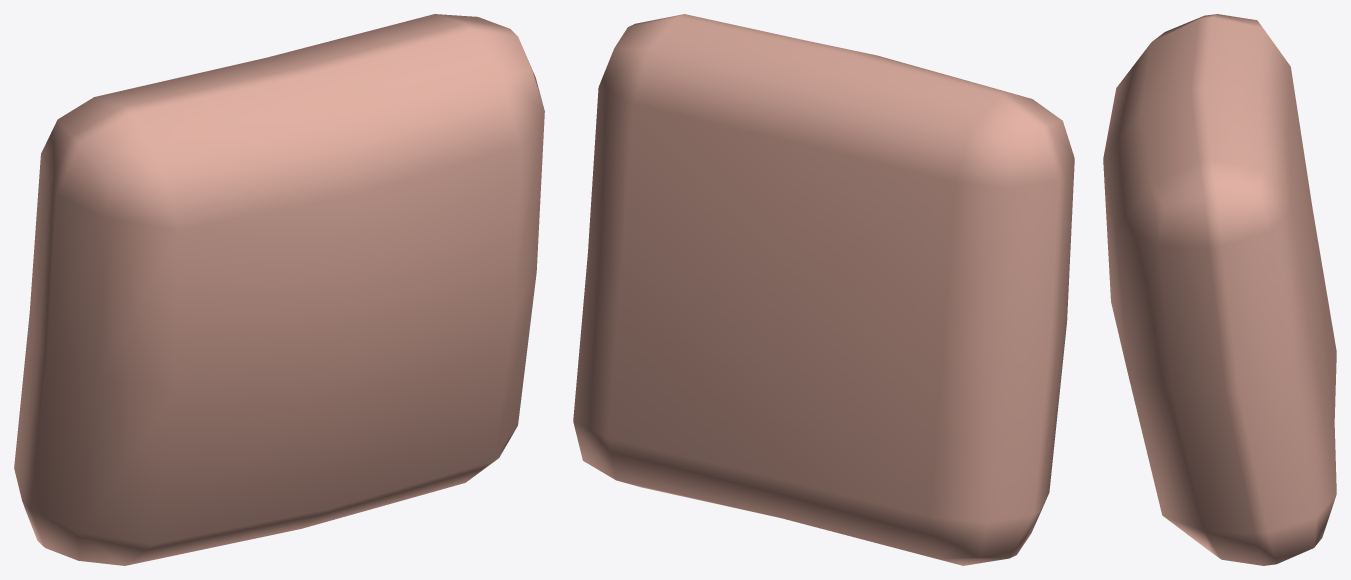
3 views of the same model, side by side, from view 1: azimuth 30°, elevation 25°; view 2: azimuth 150°, elevation 25°; view 3: azimuth 270°, elevation 25° (orthographic). The views are drawn at different scales.
Visible parts, largest first — view 1: pCube1; view 2: pCube1; view 3: pCube1.
Part boxes in pixels (left/top/right/bottom): pCube1: left=14, top=14, right=544, bottom=565; pCube1: left=573, top=14, right=1074, bottom=565; pCube1: left=1103, top=14, right=1336, bottom=565.
Size of the model in its own units: 0.0714 by 0.0672 by 0.0353.
